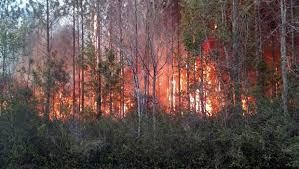fire: (168, 57, 221, 114), (239, 94, 255, 110)
